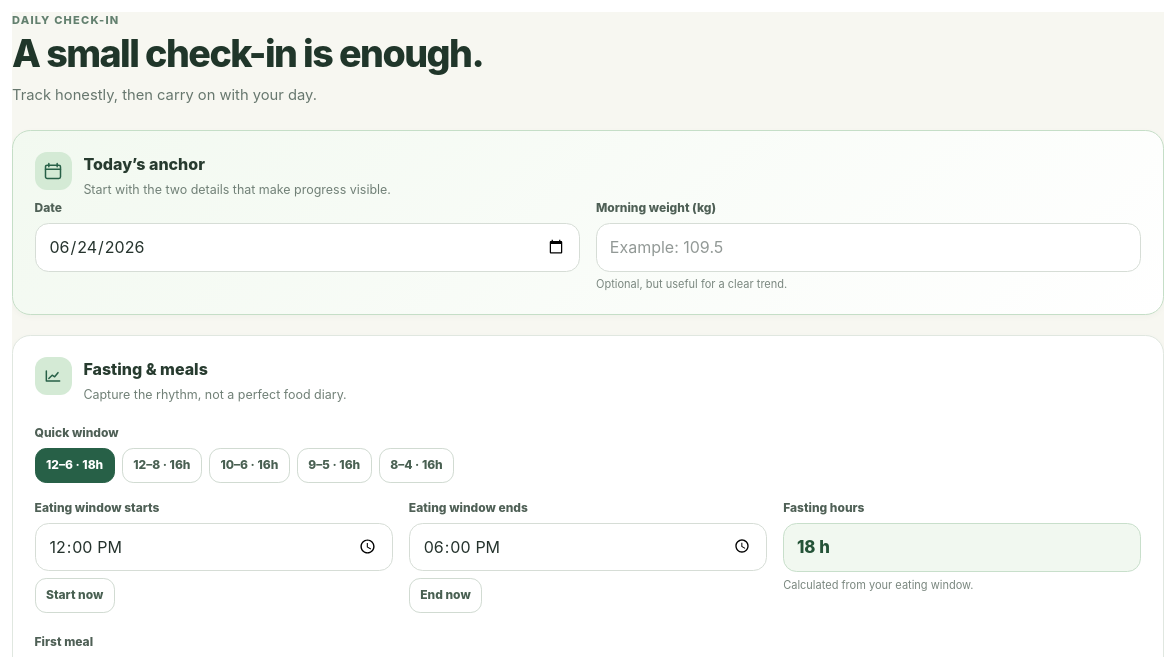
Scenario: CheckIn › shows live-time shortcuts only for today and uses the local time
Click the button "Start now": (75, 595) 35,578 -> 115,613
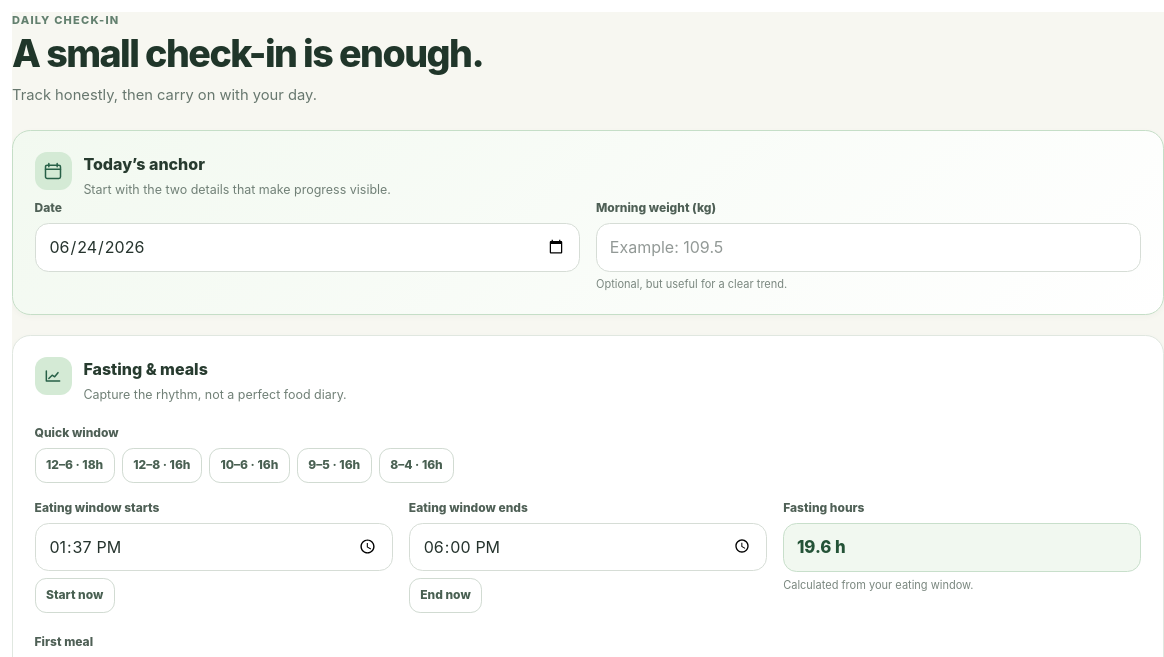
Result: the time field labelled "Eating window starts" holds "13:37" at 35,523 -> 393,571
